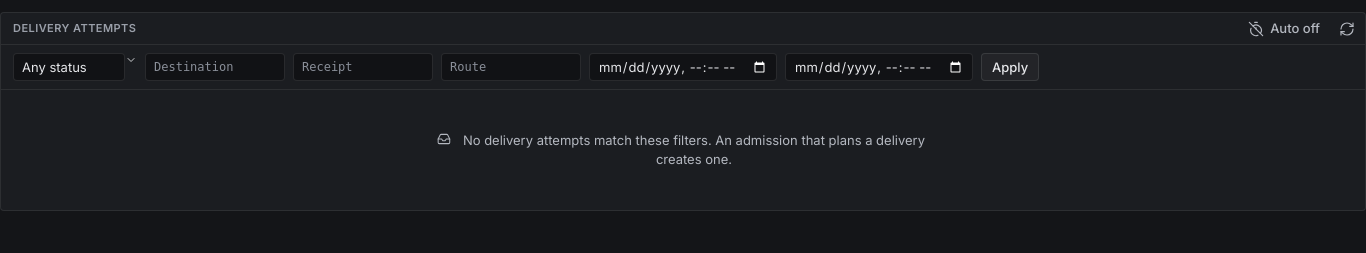
AttemptSearch › refuses an inverted time window without querying
Step 1. Type "2026-09-29T05:00" into the field named "Recorded from" → x=683, y=67, box [589,53,777,81]
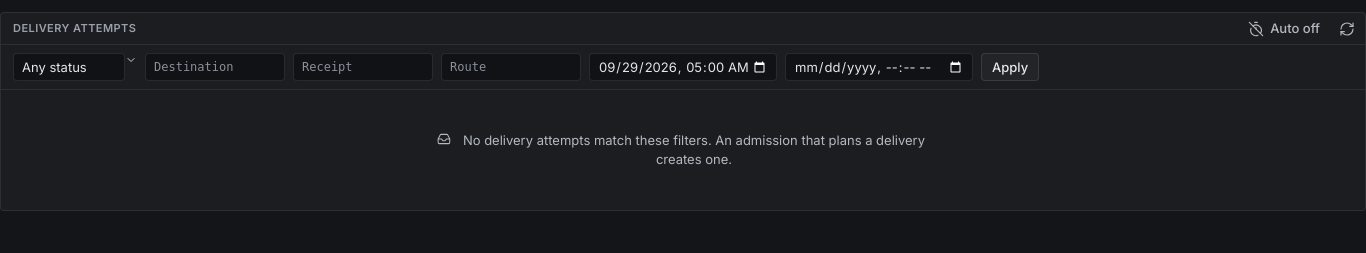
Step 2. Type "2026-09-29T04:00" into the field named "Recorded to" → x=879, y=67, box [785,53,973,81]
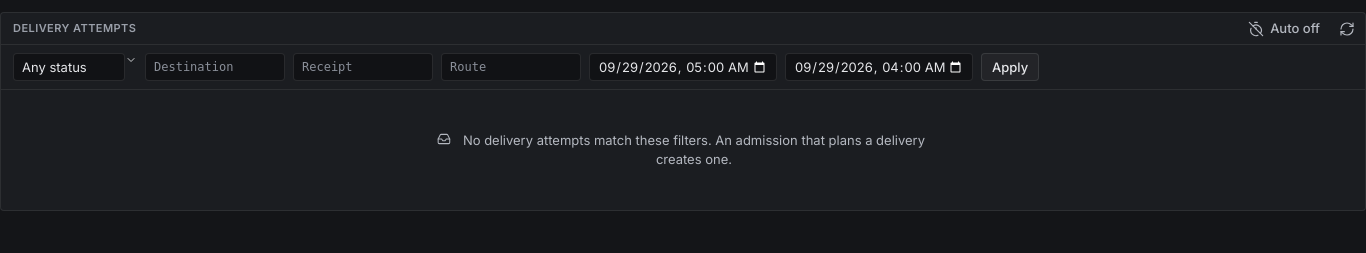
Step 3. Click the button "Apply" → x=1010, y=67, box [981,53,1039,81]
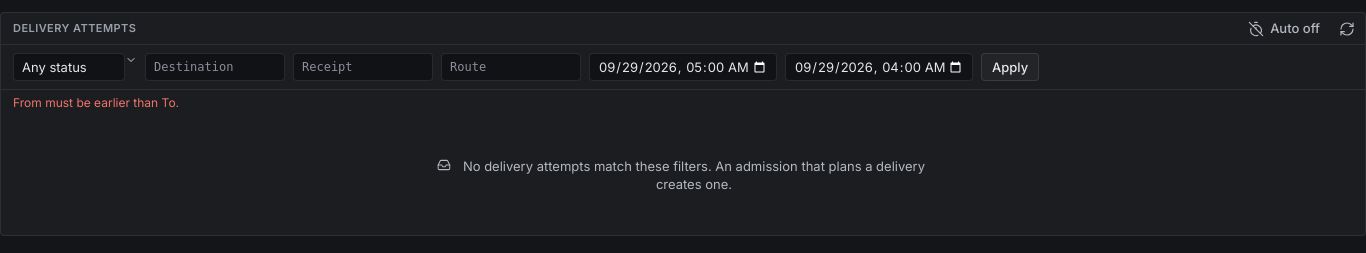
Now the text "From must be earlier than To." is shown, box [13,95,179,110]
